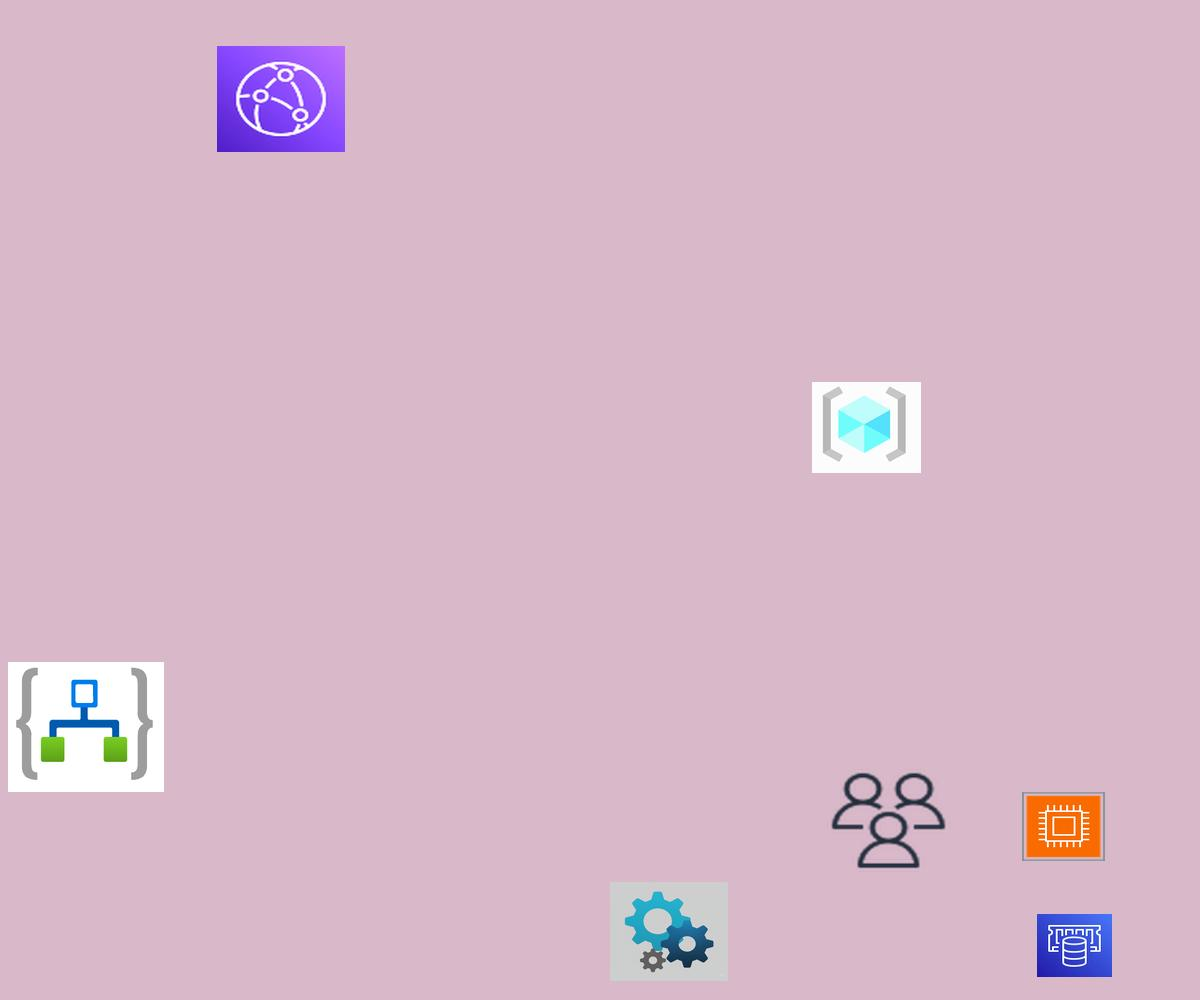AWS-Category_Compute: (1022, 792, 1105, 861)
AWS-CloudFront: (217, 46, 345, 152)
AWS-ElastiCache: (1037, 914, 1112, 977)
AWS-Res_Users: (827, 769, 950, 872)
Azure_api: (610, 882, 728, 981)
Azure_integration-204-Logic-Apps: (8, 662, 164, 792)
Azure_resource_group: (812, 382, 921, 473)
